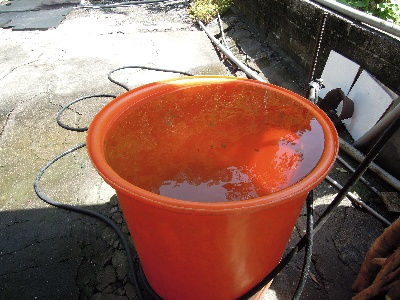bucket: (86, 72, 343, 300)
